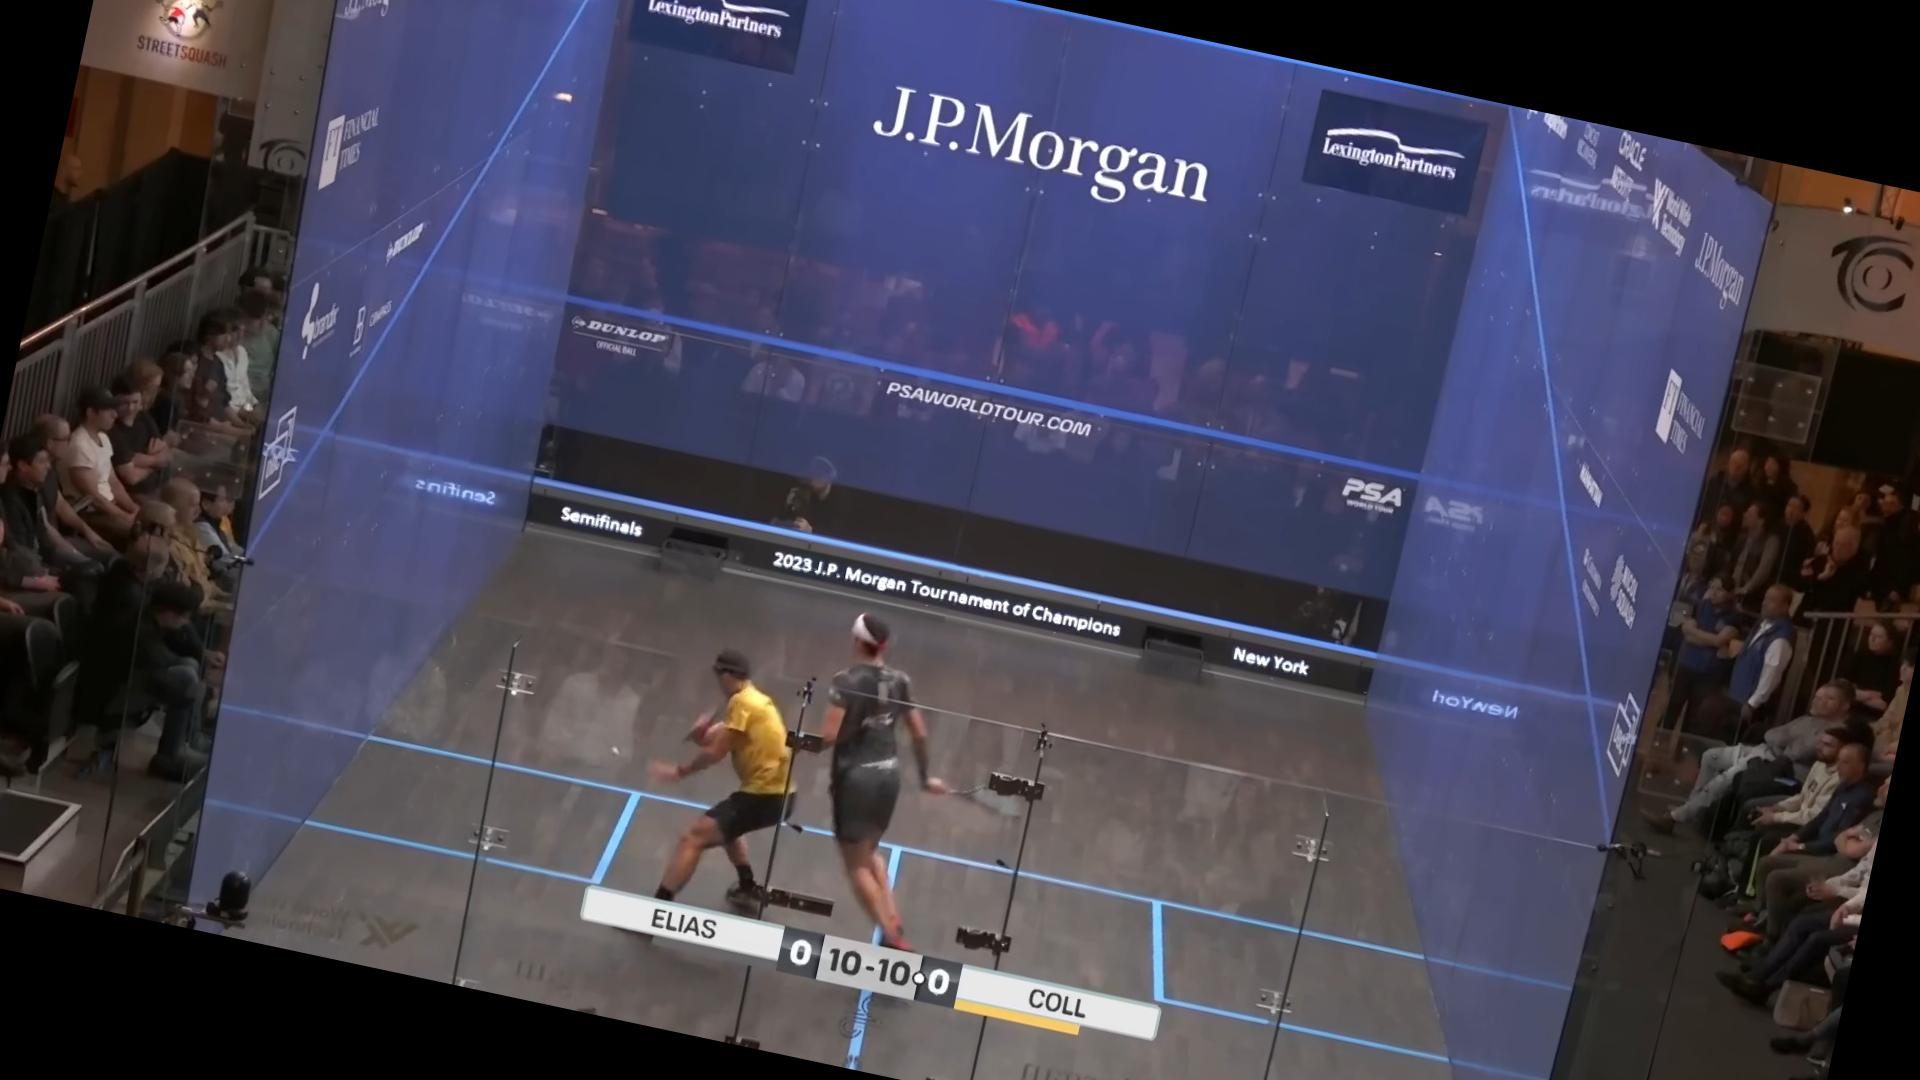Racket: (943, 762, 1043, 832)
